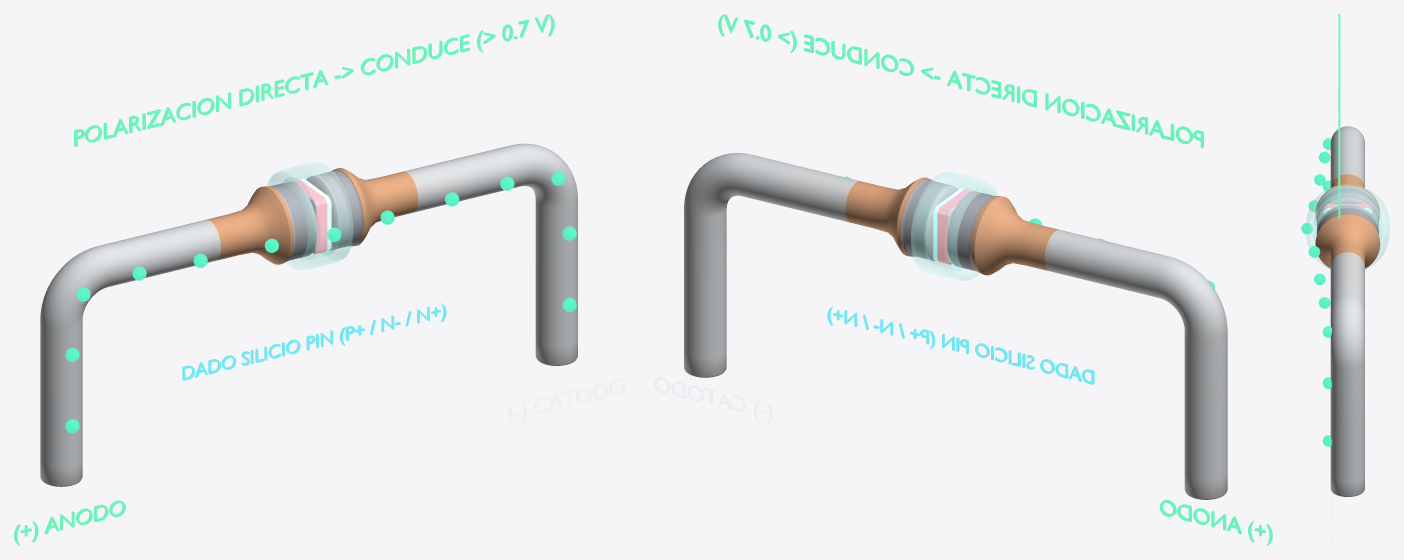
File: 02_Diodo_1N4007_Sin_Carcasa_Directa_Inversa.glb
3 views of the same model, side by side, from view 1: azimuth 30°, elevation 25°; view 2: azimuth 150°, elevation 25°; view 3: azimuth 270°, elevation 25° (orthographic). The views are drawn at different scales.
Visible parts, largest first — view 1: 01A_Terminal_Anodo_Izq_Cobre_Estanado, 01B_Terminal_Catodo_Der_Cobre_Estanado, 04_Manguito_Vidrio_Pasivacion_GPP, Lbl_Directa, 02B_Slug_Molibdeno_y_Soldadura_Catodo, Lbl_Dado_PIN, 02A_Slug_Molibdeno_y_Soldadura_Anodo, 03_Dado_Silicio_PIN_PPlus_NMinus_NPlus, Lbl_Catodo_Fwd, Lbl_Anodo_Fwd; view 2: 01A_Terminal_Anodo_Izq_Cobre_Estanado, 01B_Terminal_Catodo_Der_Cobre_Estanado, 04_Manguito_Vidrio_Pasivacion_GPP, Lbl_Directa, 02B_Slug_Molibdeno_y_Soldadura_Catodo, Lbl_Dado_PIN, 02A_Slug_Molibdeno_y_Soldadura_Anodo, 03_Dado_Silicio_PIN_PPlus_NMinus_NPlus, Lbl_Catodo_Fwd, Lbl_Anodo_Fwd; view 3: 01B_Terminal_Catodo_Der_Cobre_Estanado, 04_Manguito_Vidrio_Pasivacion_GPP, 01A_Terminal_Anodo_Izq_Cobre_Estanado, 02A_Slug_Molibdeno_y_Soldadura_Anodo, Lbl_Directa, 02B_Slug_Molibdeno_y_Soldadura_Catodo, 03_Dado_Silicio_PIN_PPlus_NMinus_NPlus, Lbl_Catodo_Fwd.
Boxes of the visible parts, x1,y1,x2,y2 form: 01A_Terminal_Anodo_Izq_Cobre_Estanado: (40,186,294,486); 01B_Terminal_Catodo_Der_Cobre_Estanado: (332,143,577,365); 04_Manguito_Vidrio_Pasivacion_GPP: (267,162,353,269); Lbl_Directa: (74,14,554,146); 02B_Slug_Molibdeno_y_Soldadura_Catodo: (306,169,362,250); Lbl_Dado_PIN: (182,303,446,380); 02A_Slug_Molibdeno_y_Soldadura_Anodo: (270,181,317,260); 03_Dado_Silicio_PIN_PPlus_NMinus_NPlus: (291,178,331,254); Lbl_Catodo_Fwd: (508,378,625,425); Lbl_Anodo_Fwd: (14,500,125,545); 01A_Terminal_Anodo_Izq_Cobre_Estanado: (970,196,1227,499); 01B_Terminal_Catodo_Der_Cobre_Estanado: (684,153,932,377); 04_Manguito_Vidrio_Pasivacion_GPP: (911,172,997,280); Lbl_Directa: (718,14,1203,148); 02B_Slug_Molibdeno_y_Soldadura_Catodo: (901,179,958,260); Lbl_Dado_PIN: (827,306,1094,384); 02A_Slug_Molibdeno_y_Soldadura_Anodo: (947,191,995,271); 03_Dado_Silicio_PIN_PPlus_NMinus_NPlus: (933,188,973,264); Lbl_Catodo_Fwd: (654,376,772,423); Lbl_Anodo_Fwd: (1159,500,1272,545); 01B_Terminal_Catodo_Der_Cobre_Estanado: (1315,213,1380,496); 04_Manguito_Vidrio_Pasivacion_GPP: (1306,184,1389,269); 01A_Terminal_Anodo_Izq_Cobre_Estanado: (1315,126,1380,220); 02A_Slug_Molibdeno_y_Soldadura_Anodo: (1316,186,1379,227); Lbl_Directa: (1338,14,1340,218); 02B_Slug_Molibdeno_y_Soldadura_Catodo: (1316,205,1378,234); 03_Dado_Silicio_PIN_PPlus_NMinus_NPlus: (1323,204,1371,214); Lbl_Catodo_Fwd: (1331,492,1333,545).
Size of what is drawn, in the model's own units: 13.31 by 8.28 by 2.07.
Materials: 19 (10 with a texture image).
